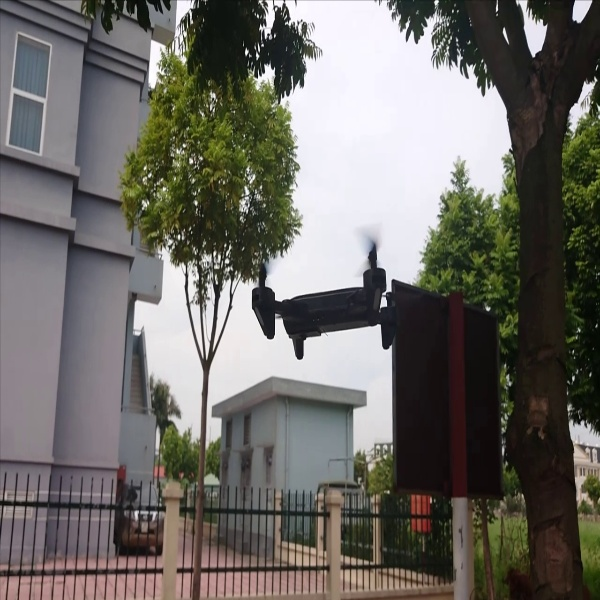drone: (242, 227, 410, 363)
